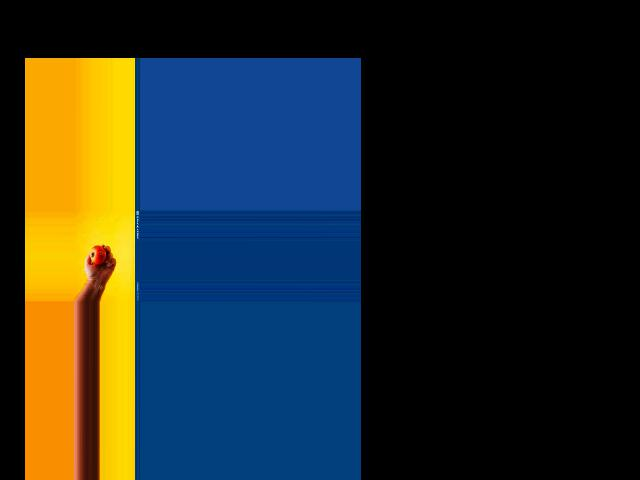tomato: (90, 246, 106, 264)
